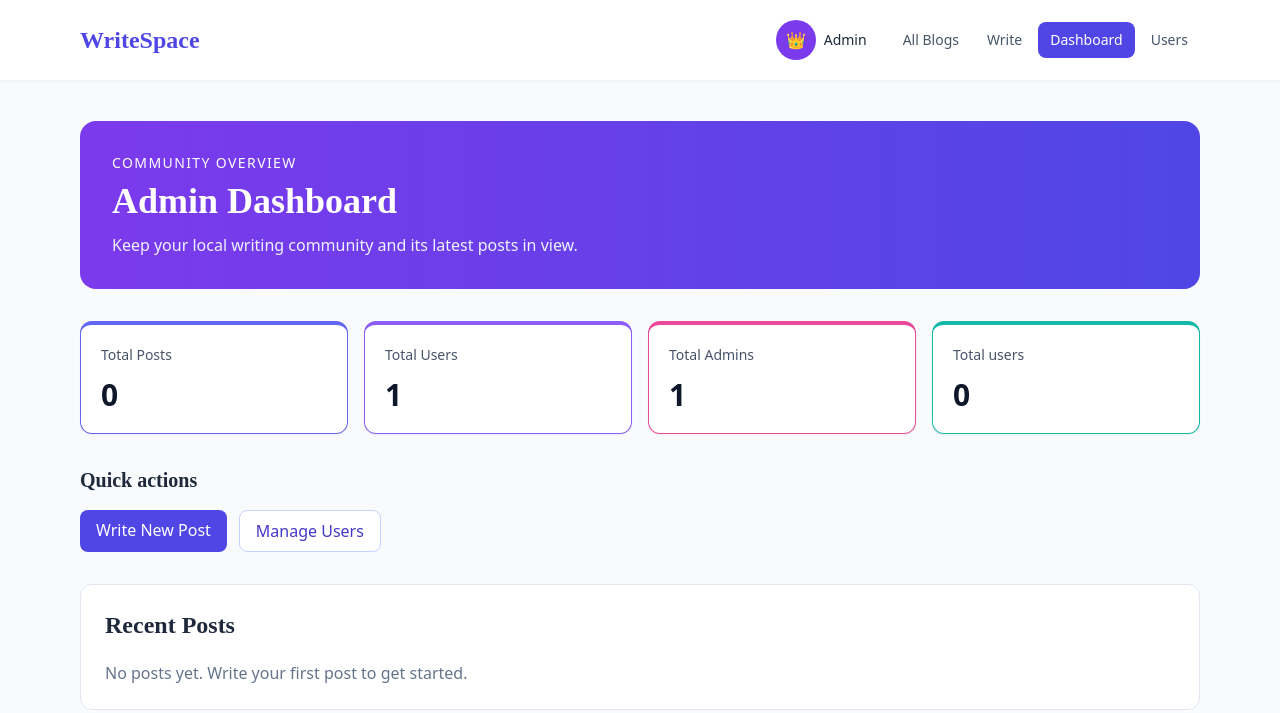
Scenario: dashboard › shows default-inclusive totals, a meaningful empty state and working quick routes
Expected: the heading "Admin Dashboard" is shown, [112,181,397,221]
Expected: the text "No posts yet. Write your first post to get started." is shown, [105,662,467,684]
Step 1. Click the link "Manage Users" → coordinates (310, 531), box [239,510,381,552]
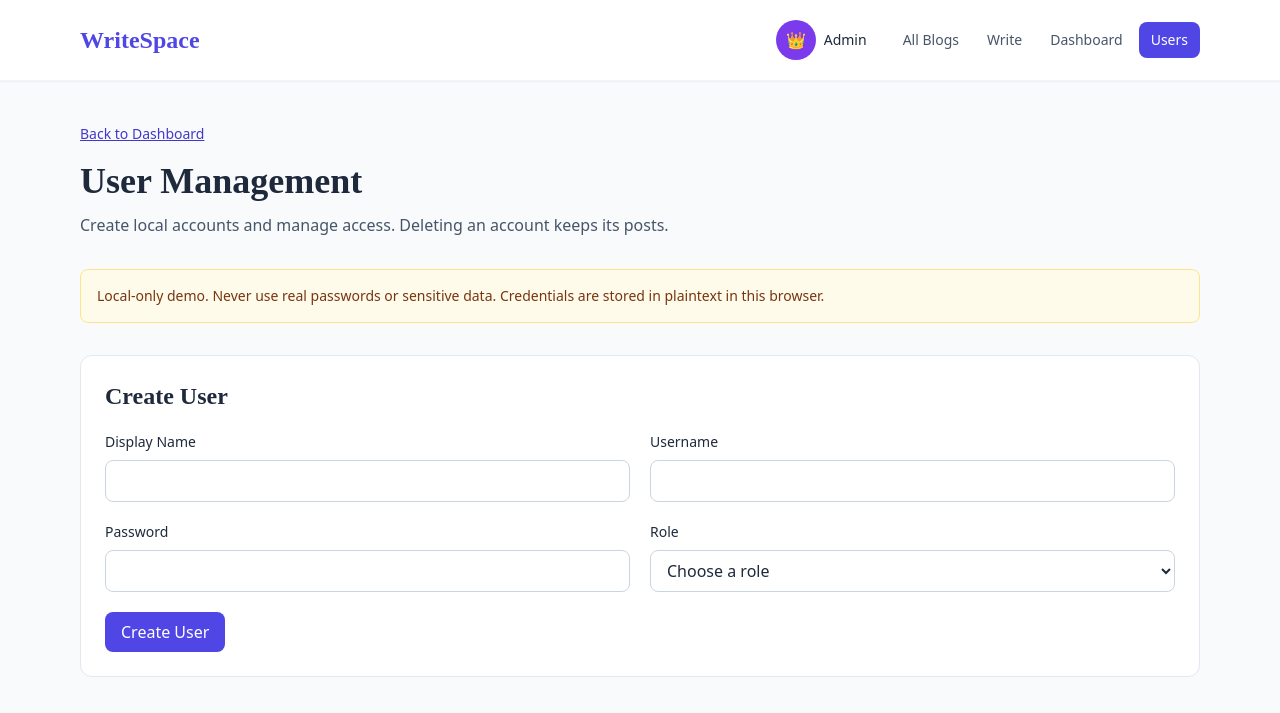
Result: the heading "User Management" is shown at [80,161,362,201]
Step 2. Click the link "Back to Dashboard" → coordinates (142, 134), box [80,124,204,143]
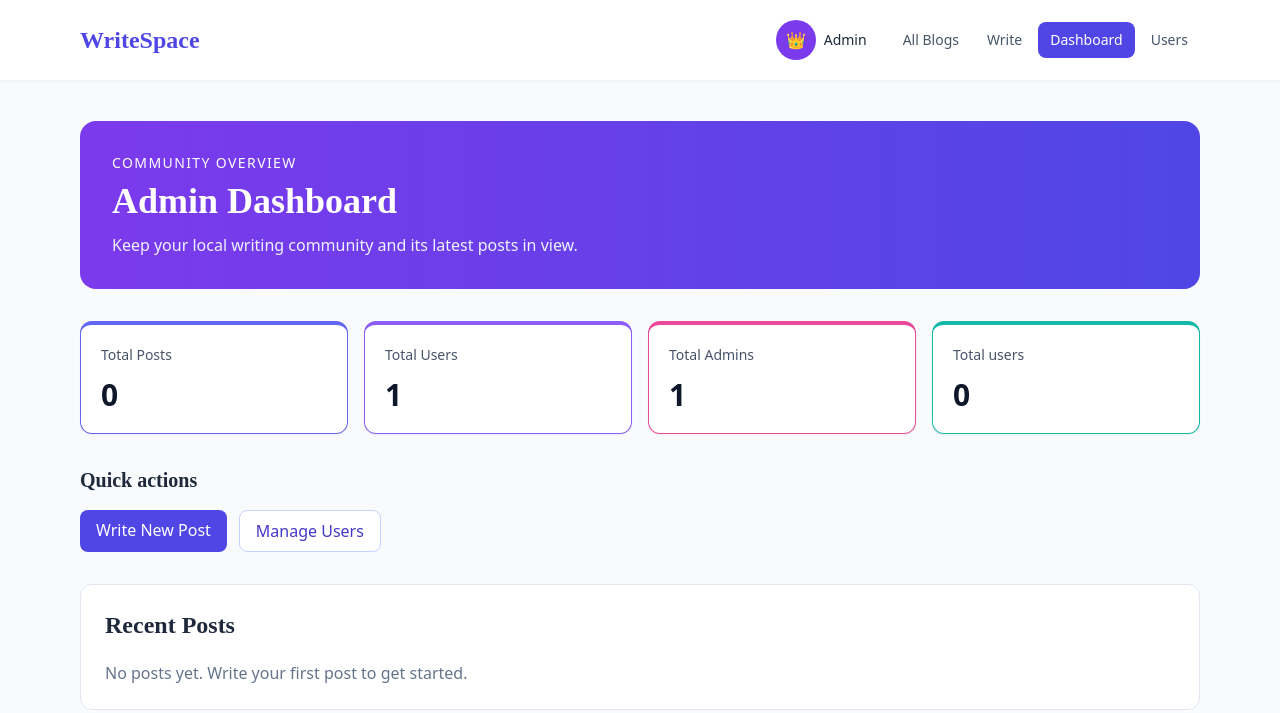
Step 3. Click the link "Write New Post" → coordinates (153, 531), box [80,510,227,552]
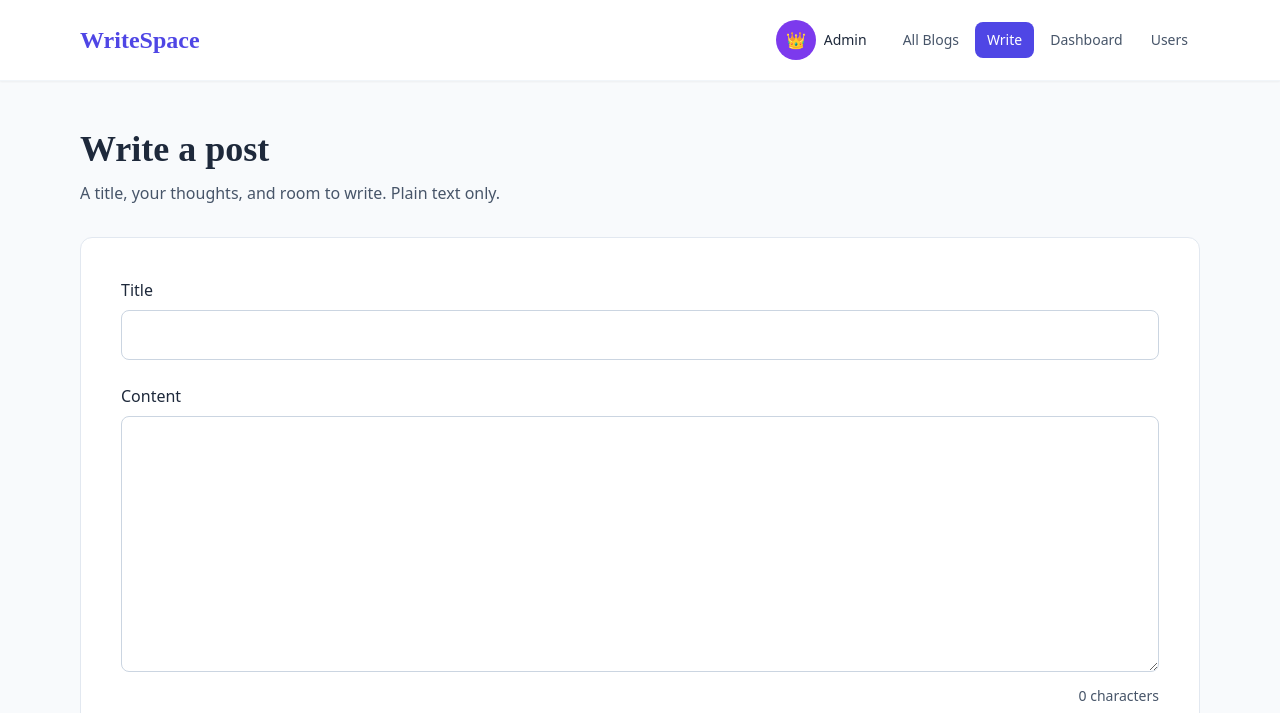
Result: the heading "Write a post" is shown at [80,129,269,169]
